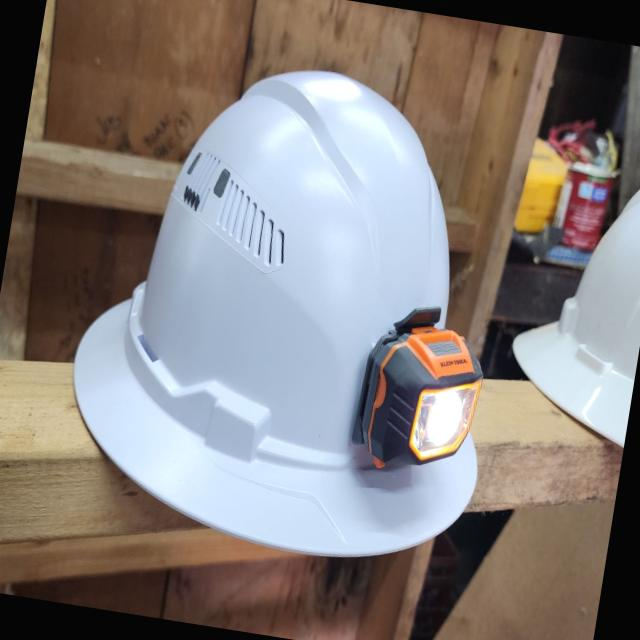helmet: (19, 2, 569, 589)
